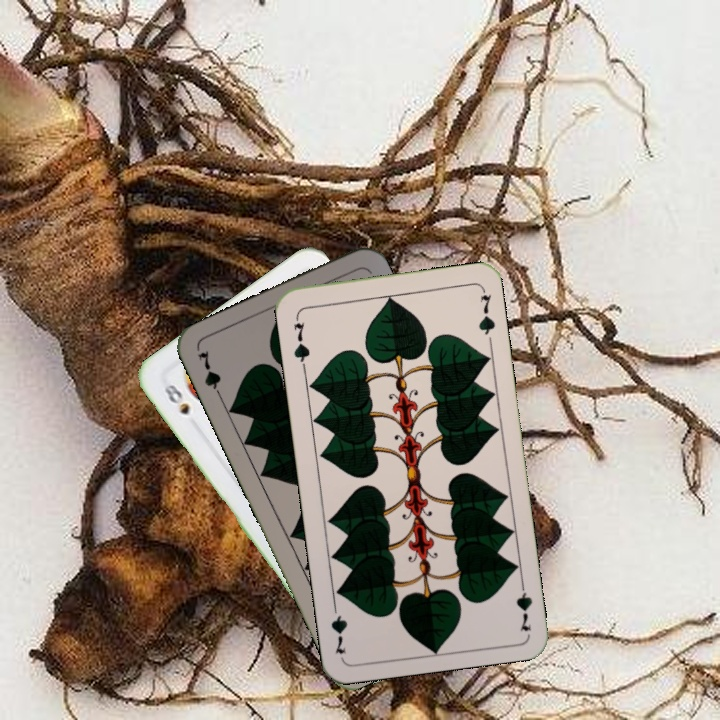G7: (193, 346, 226, 404), (289, 311, 313, 370), (512, 574, 535, 634)
S8: (158, 380, 192, 418)
